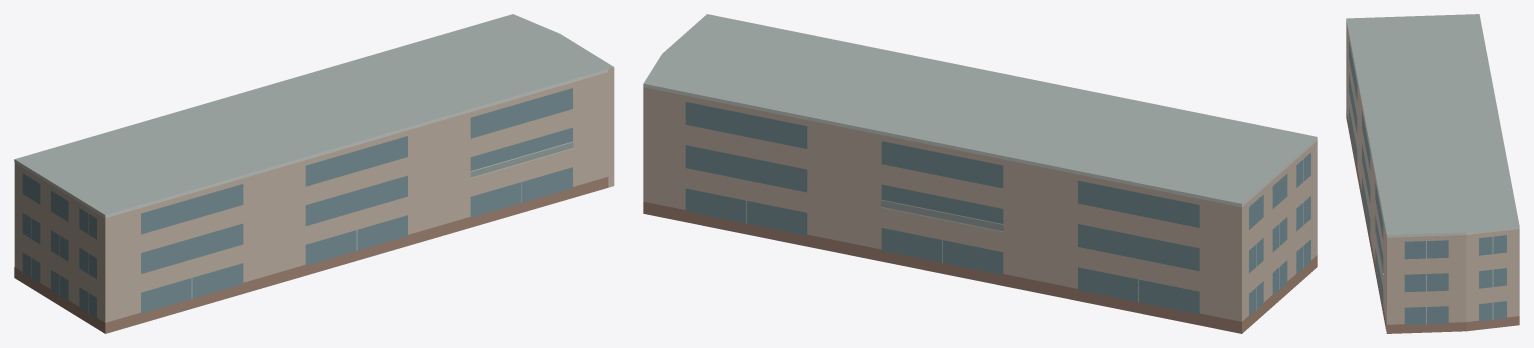
File: survey-upis-32813244.glb
3 views of the same model, side by side, from view 1: azimuth 30°, elevation 25°; view 2: azimuth 150°, elevation 25°; view 3: azimuth 270°, elevation 25° (orthographic). The views are drawn at different scales.
Parts seen in each view (by area): view 1: survey-upis-32813244.tmp; view 2: survey-upis-32813244.tmp; view 3: survey-upis-32813244.tmp.
Part boxes in pixels (x1,y1,x2,y2): survey-upis-32813244.tmp: (14,14,614,333); survey-upis-32813244.tmp: (643,14,1317,333); survey-upis-32813244.tmp: (1346,14,1519,333).
Bounding box in the file's own units: 43.88 × 9.15 × 14.56.
